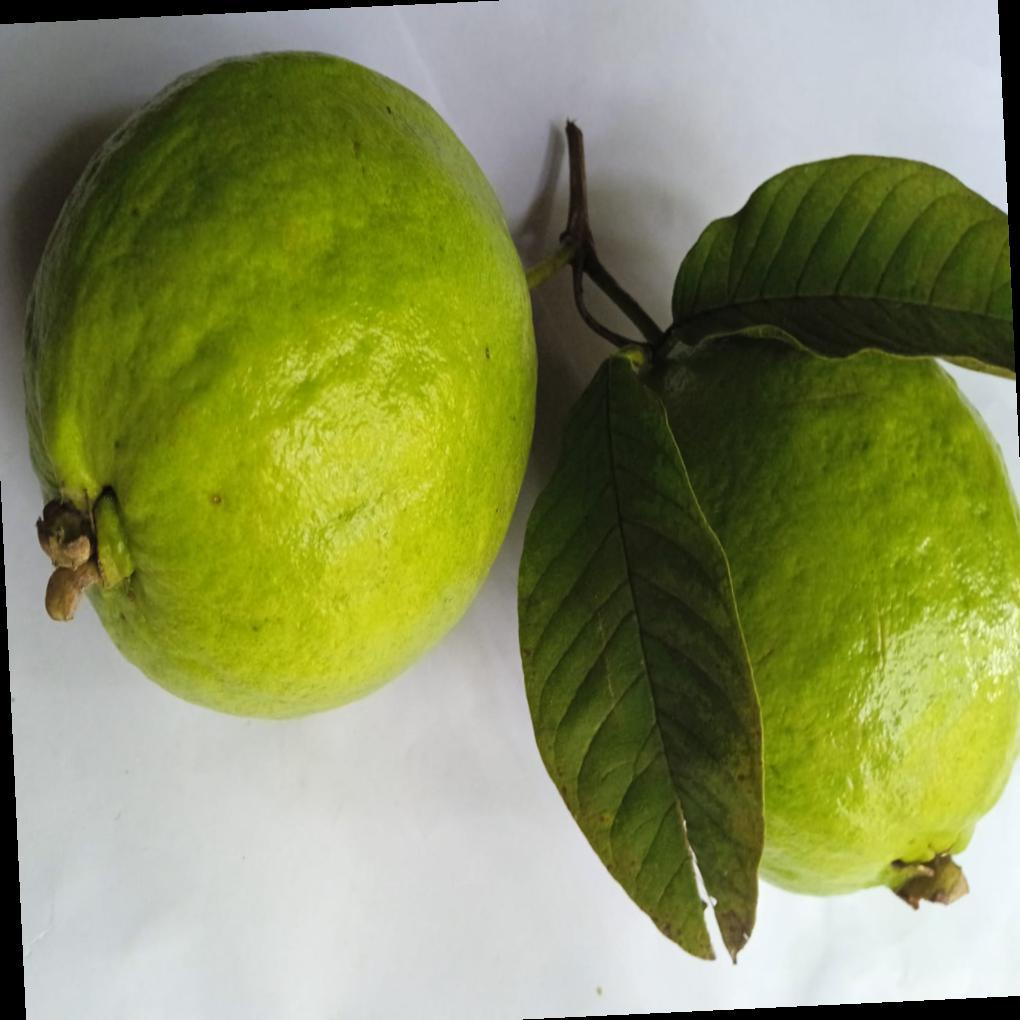FreshGuava: (20, 49, 1020, 965)
